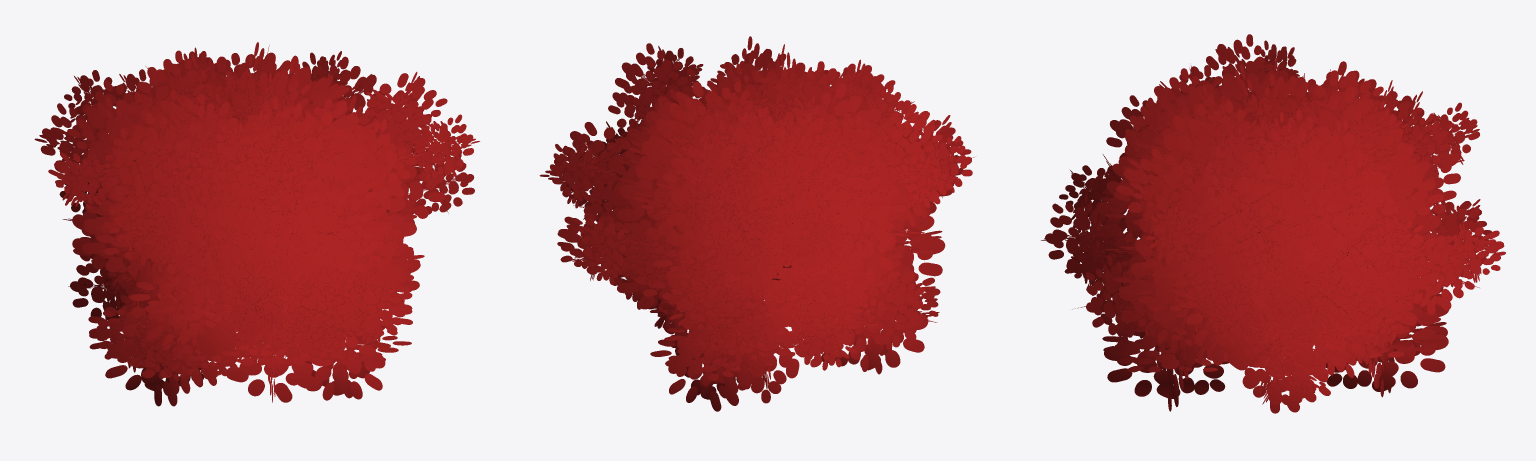
The model's file is bush_red.glb.
The picture shows the model from 3 angles, left to right: view 1: azimuth 30°, elevation 25°; view 2: azimuth 150°, elevation 25°; view 3: azimuth 270°, elevation 25°; orthographic projection. The views are drawn at different scales.
Parts seen in each view (by area): view 1: Bush_Common; view 2: Bush_Common; view 3: Bush_Common.
Part boxes in pixels (<box>): Bush_Common: <box>34,42,479,406</box>; Bush_Common: <box>539,36,974,411</box>; Bush_Common: <box>1041,34,1505,413</box>.
Size of the model in its own units: 1.91 by 1.58 by 1.97.
1 material, 1 textured.
